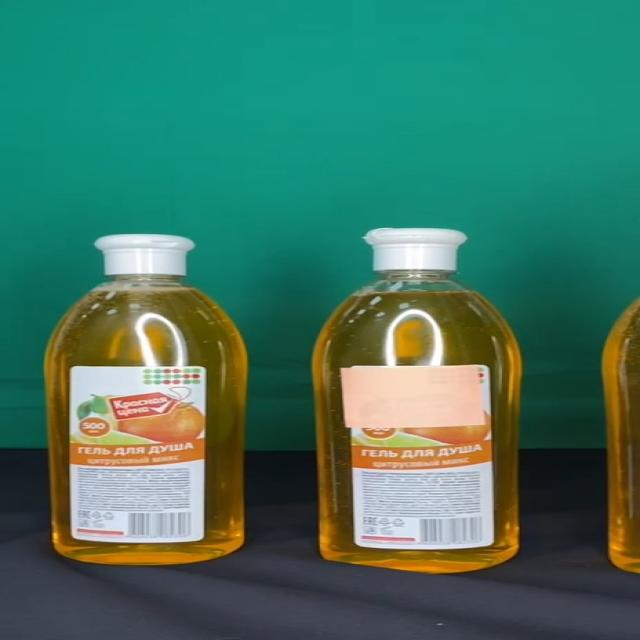Bottle: (310, 228, 522, 574), (46, 233, 247, 566)
Cap: (363, 228, 468, 270), (94, 234, 196, 275)
